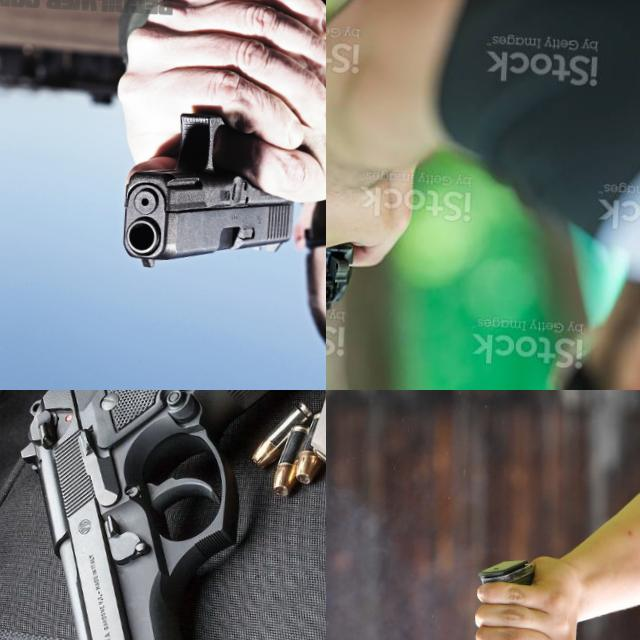handgun: (0, 390, 326, 640), (117, 92, 303, 278), (386, 549, 601, 640), (326, 219, 393, 317)
